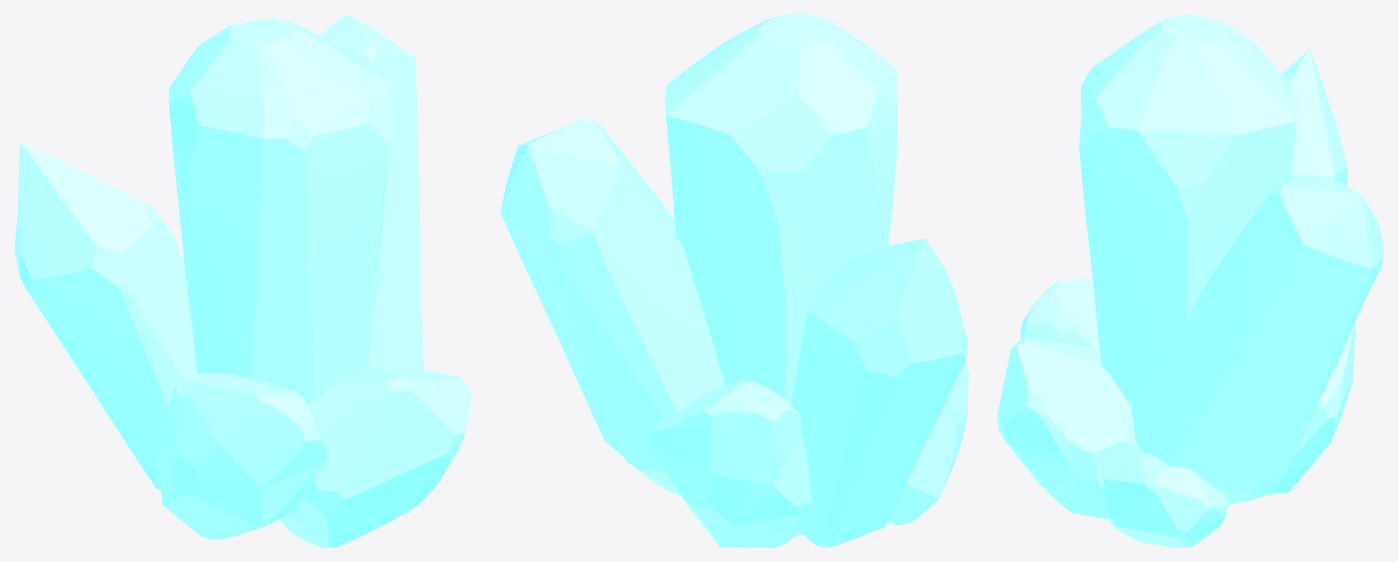
The model's file is Crystal5.FBX.
3 views of the same model, side by side, from view 1: azimuth 30°, elevation 25°; view 2: azimuth 150°, elevation 25°; view 3: azimuth 270°, elevation 25° (orthographic). The views are drawn at different scales.
Parts seen in each view (by area): view 1: Cristalli_5; view 2: Cristalli_5; view 3: Cristalli_5.
Part boxes in pixels (x1,y1,x2,y2): Cristalli_5: (14,14,471,547); Cristalli_5: (500,14,968,547); Cristalli_5: (997,14,1383,547).
Size of the model in its own units: 9.39 by 10.83 by 7.88.
Materials: 1 (1 with a texture image).
